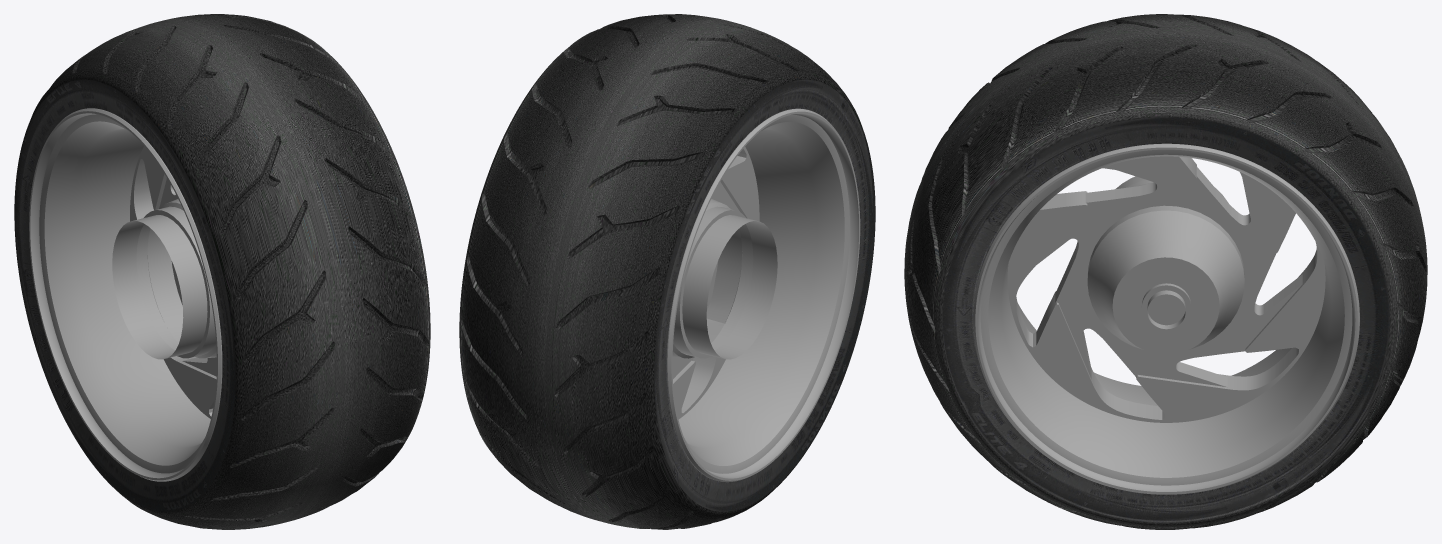
File: WheelRear_10in.glb
3 views of the same model, side by side, from view 1: azimuth 30°, elevation 25°; view 2: azimuth 150°, elevation 25°; view 3: azimuth 270°, elevation 25° (orthographic).
Visible parts, largest first — view 1: TireSidewalls.001, Rear10Rim_ALMN; view 2: TireSidewalls.001, Rear10Rim_ALMN; view 3: TireSidewalls.001, Rear10Rim_ALMN.
Part boxes in pixels (x1=…): TireSidewalls.001: x1=14, y1=14, x2=430, y2=529; Rear10Rim_ALMN: x1=29, y1=108, x2=222, y2=481; TireSidewalls.001: x1=459, y1=14, x2=875, y2=529; Rear10Rim_ALMN: x1=667, y1=108, x2=860, y2=482; TireSidewalls.001: x1=904, y1=14, x2=1427, y2=529; Rear10Rim_ALMN: x1=973, y1=143, x2=1359, y2=494.
Size of the model in its own units: 0.2835 by 0.6419 by 0.6419.
Materials: 3 (2 with a texture image).
